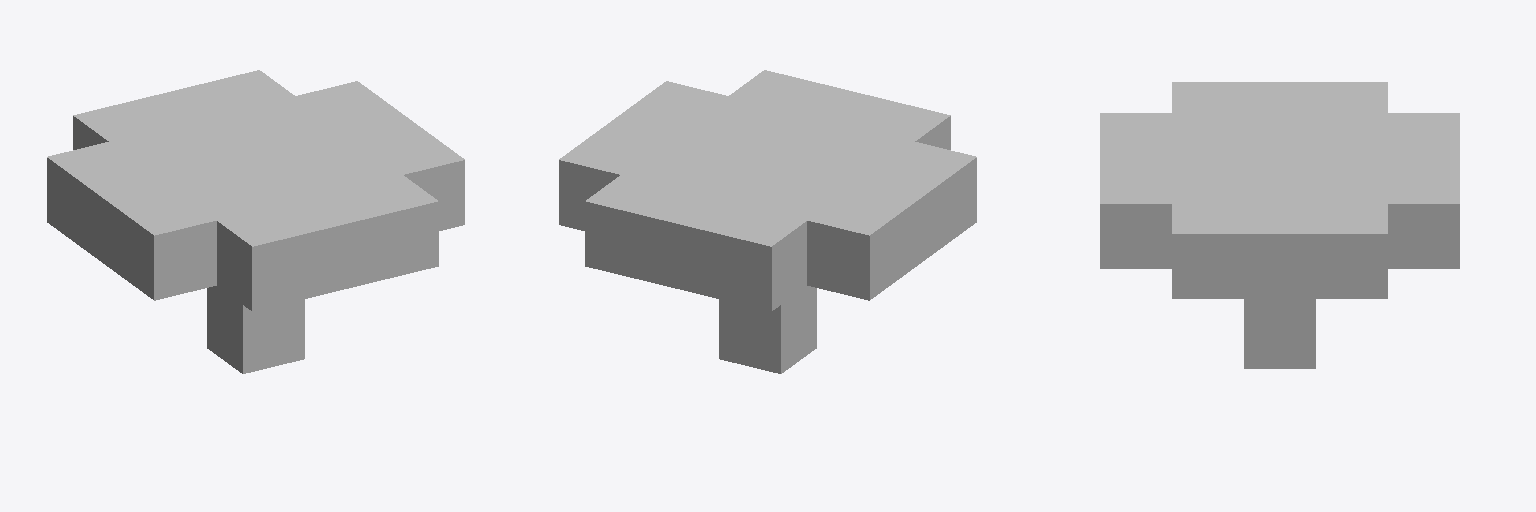
Rendered from brownMushrooms2-0.obj.
The picture shows the model from 3 angles: view 1: azimuth 30°, elevation 25°; view 2: azimuth 150°, elevation 25°; view 3: azimuth 270°, elevation 25°; orthographic projection.
Parts seen in each view (by area): view 1: object 1; view 2: object 1; view 3: object 1.
Part boxes in pixels (bbox=[...]): object 1: bbox=[47, 70, 464, 373]; object 1: bbox=[559, 70, 976, 373]; object 1: bbox=[1100, 82, 1459, 368].
Size of the model in its own units: 0.5 by 0.3 by 0.5.